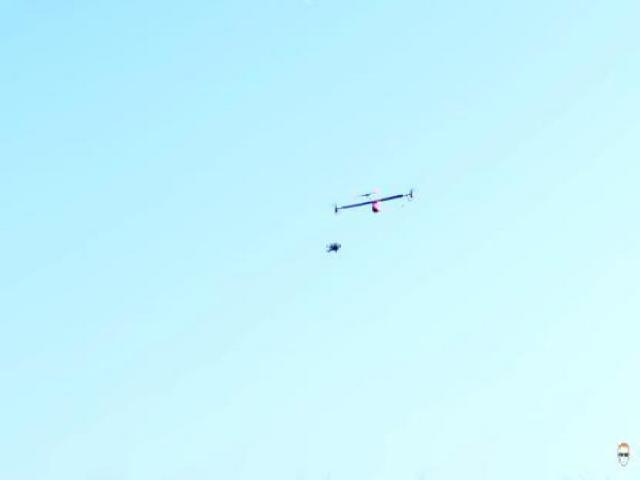uav: (324, 177, 425, 222)
